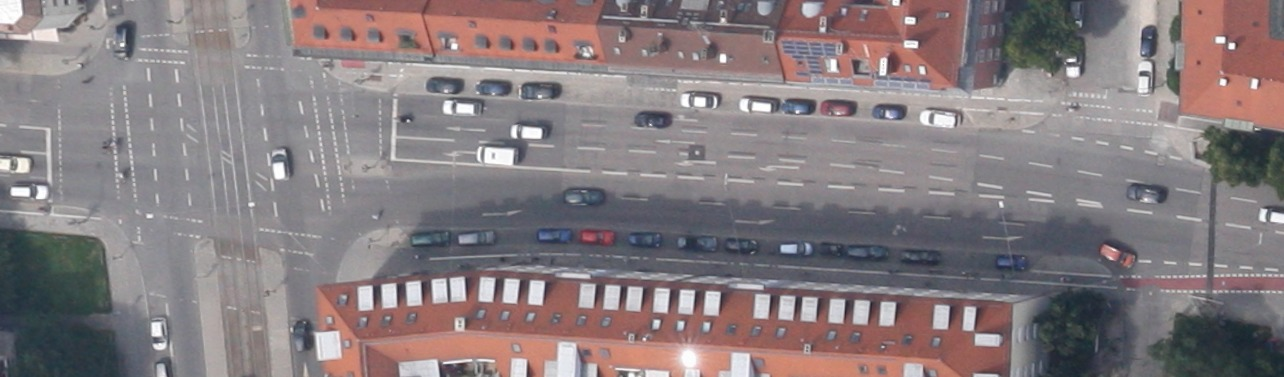car: (1098, 241, 1136, 269), (918, 108, 961, 128), (1126, 182, 1165, 204), (676, 233, 716, 251), (562, 187, 604, 204), (520, 81, 559, 99), (847, 244, 888, 261), (509, 122, 547, 140), (113, 23, 131, 60), (424, 76, 463, 93), (1065, 38, 1082, 77), (410, 230, 449, 247), (633, 110, 671, 127), (901, 248, 939, 265), (442, 99, 482, 115), (871, 102, 906, 120), (270, 147, 289, 180), (679, 91, 718, 107), (292, 318, 312, 349), (1136, 60, 1154, 94), (724, 237, 757, 255), (739, 97, 776, 113), (10, 184, 49, 199), (474, 79, 508, 96), (580, 228, 614, 245), (820, 99, 856, 115), (457, 230, 495, 245), (781, 98, 814, 115), (536, 227, 571, 243), (150, 316, 166, 350), (629, 231, 661, 248), (779, 240, 813, 256), (996, 253, 1026, 271), (1258, 206, 1284, 224), (1140, 25, 1155, 56), (1069, 1, 1083, 29), (819, 242, 843, 257)
